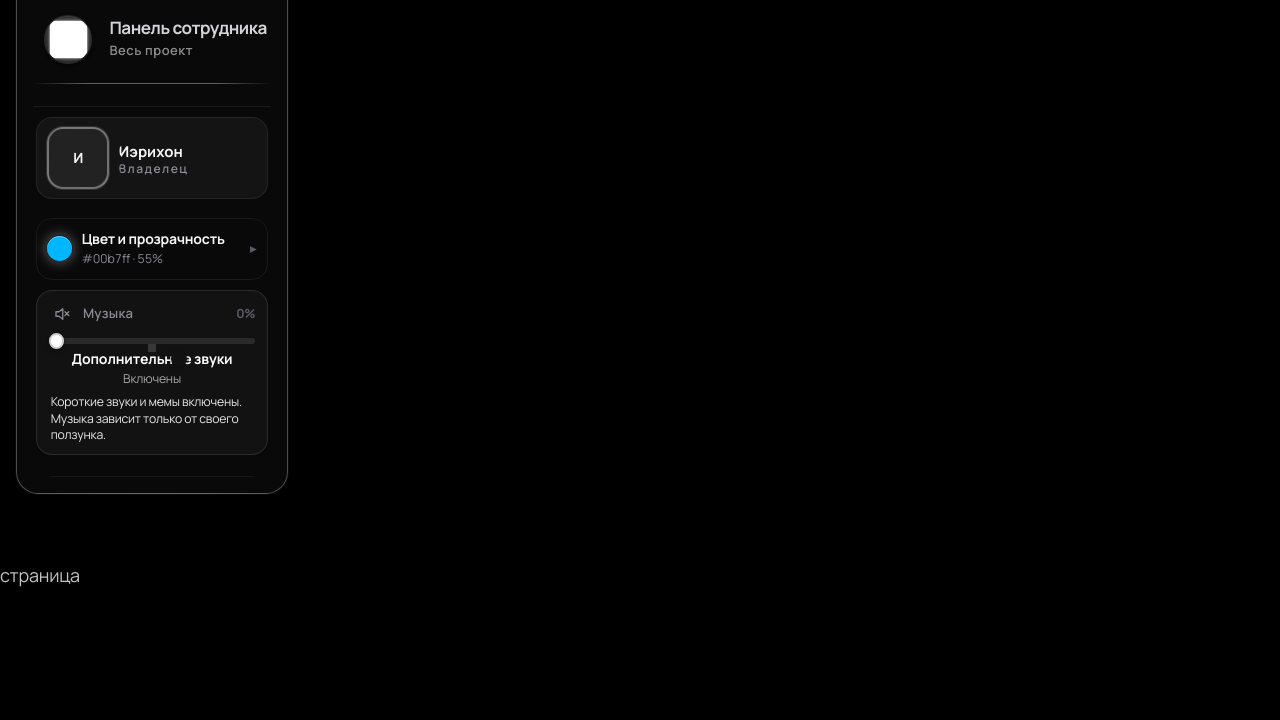
Scenario: Сайдбар и палитра цвета (телефон) › затемнение под палитрой не перехватывает клики
The width and height of the screenshot is (1280, 720).
Step 1. Press the mouse on the button "Цвет и прозрачность #00b7ff · 55% ▸" → (152, 249), box left=36, top=218, right=268, bottom=280
Step 2. Click the button "Цвет и прозрачность #00b7ff · 55% ▸" → click(152, 249), box left=36, top=218, right=268, bottom=280
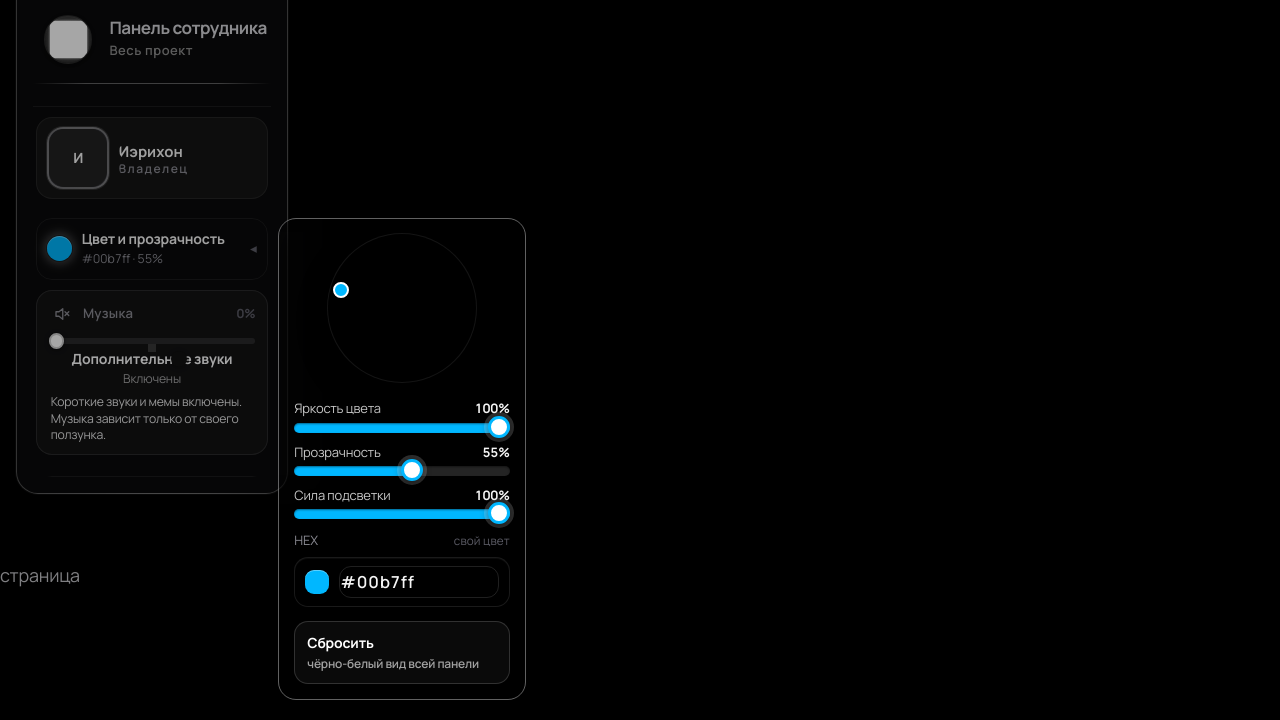
Now the dialog with class "accent-picker-panel" is shown, box left=278, top=218, right=526, bottom=699
Now the element with class "accent-picker-backdrop" is shown
